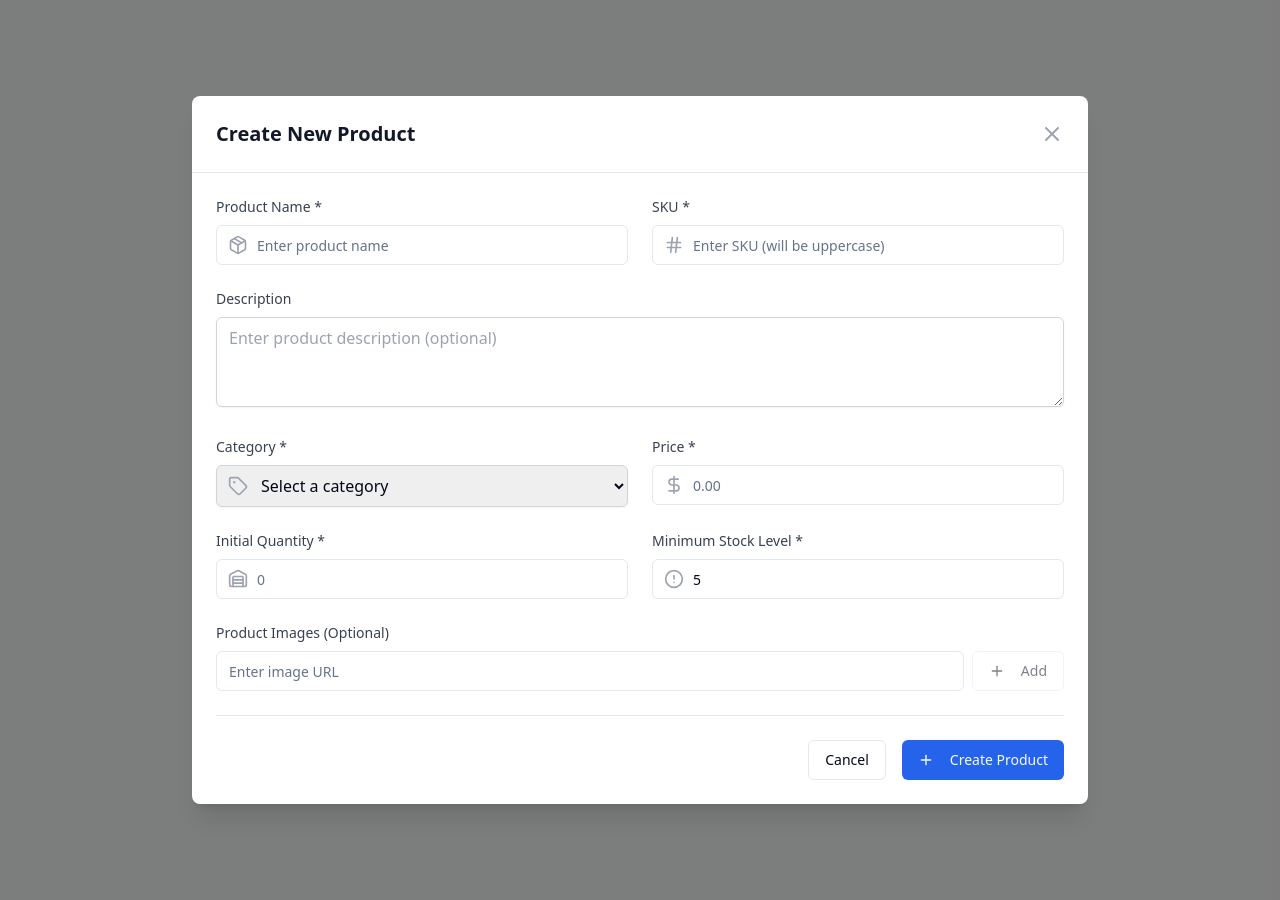
Test: CreateProductModal › Negative Tests › should show validation errors for empty required fields
Note: Try to submit empty form
Click the button "Create Product". click: [983, 760]
box: [902,740,1064,780]
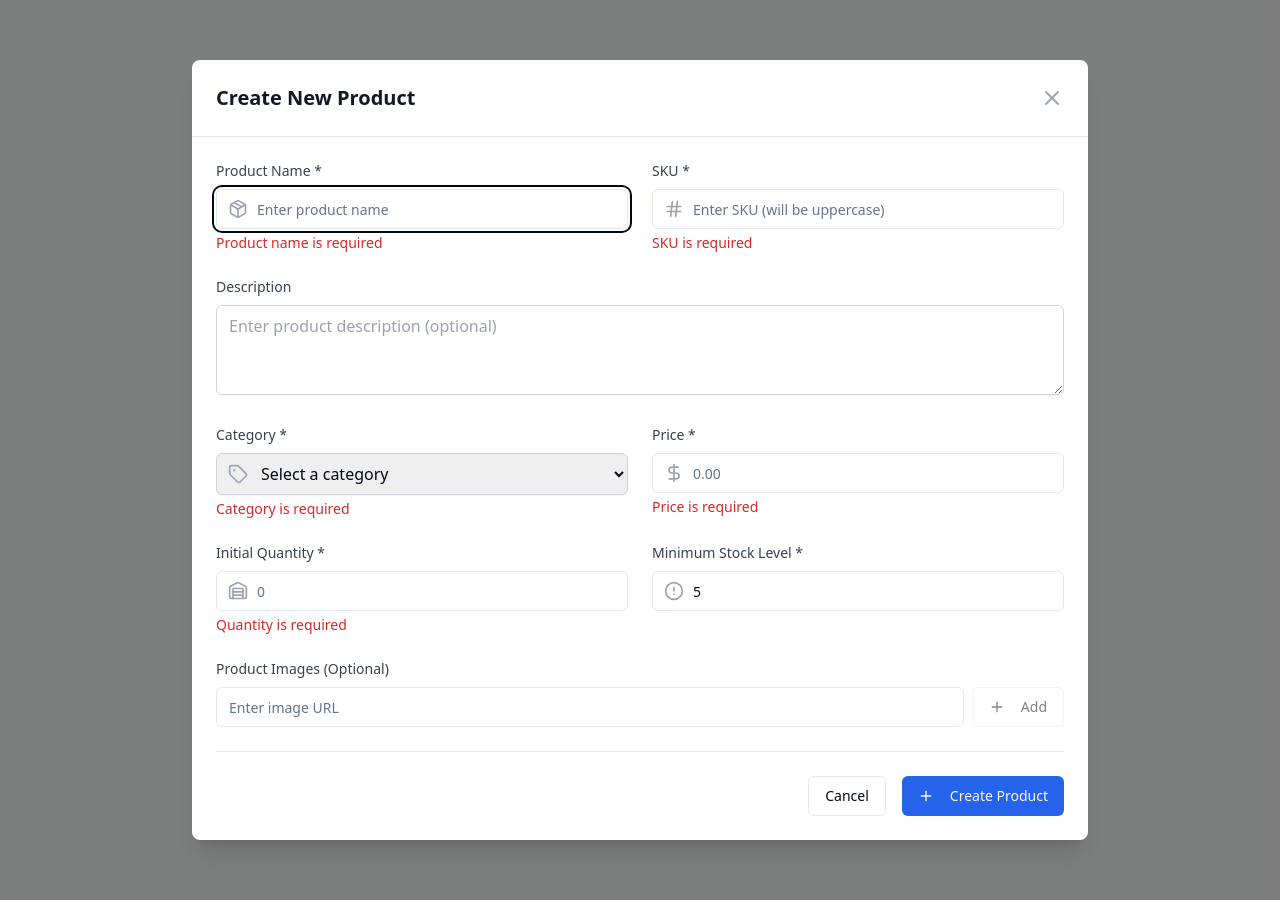
Check: the text "Product name is required" is shown, box [216,233,382,252]
Check: the text "SKU is required" is shown, box [652,233,752,252]
Check: the text "Category is required" is shown, box [216,499,350,518]
